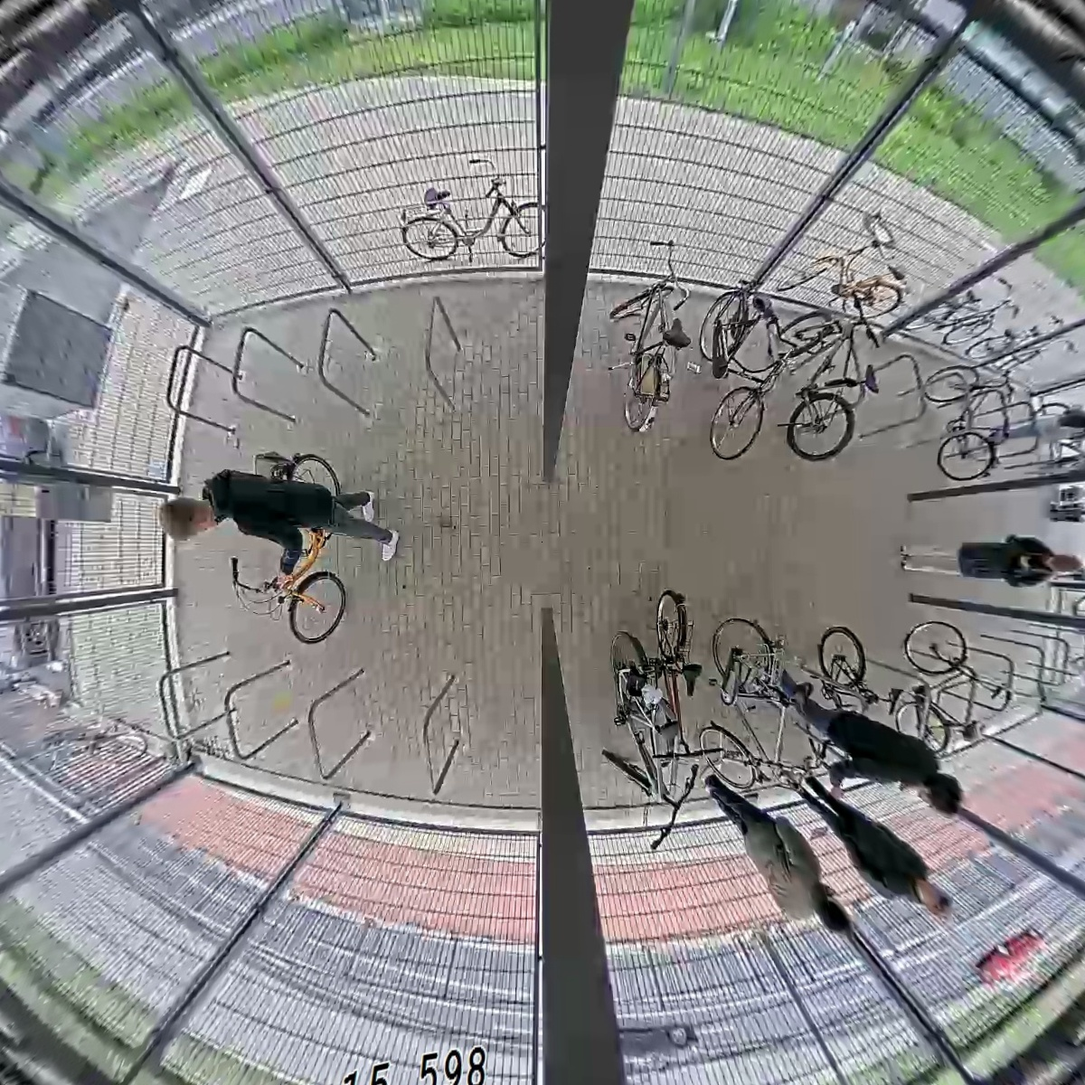bicylce: (695, 613, 811, 803), (692, 281, 795, 462), (255, 443, 346, 646), (768, 298, 873, 467), (598, 626, 694, 810), (607, 246, 697, 440), (637, 589, 715, 789), (918, 351, 1023, 488), (892, 621, 979, 769)
saddle: (655, 311, 696, 354), (669, 658, 704, 705), (780, 677, 815, 721), (747, 291, 784, 328), (648, 718, 684, 755), (857, 360, 887, 399), (960, 715, 987, 747), (996, 412, 1019, 443), (887, 683, 903, 721)
